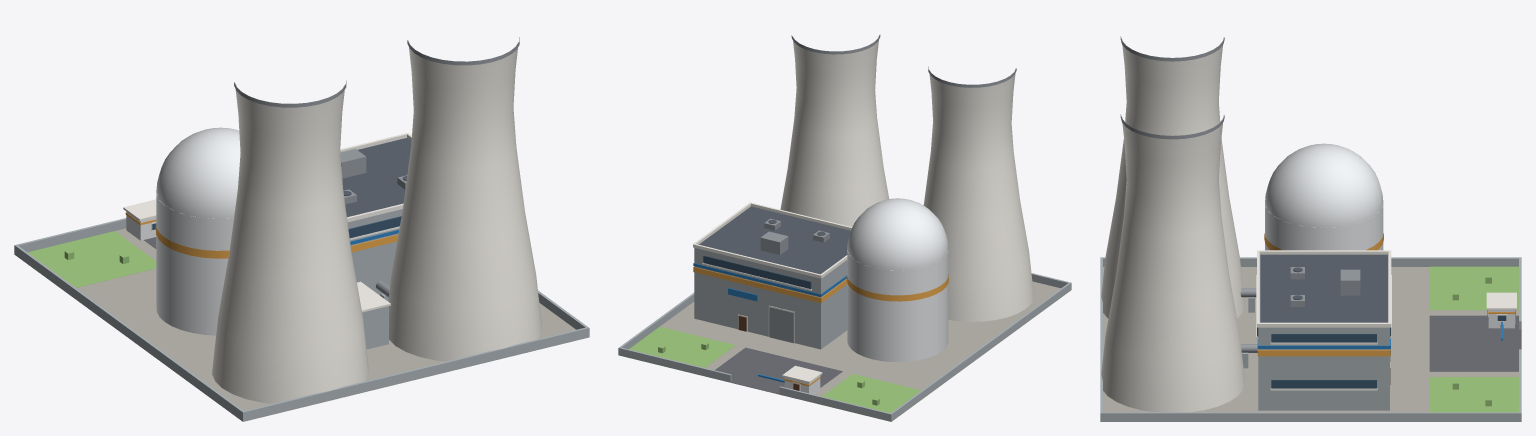
Rendered from nuclear.glb.
3 views of the same model, side by side, from view 1: azimuth 30°, elevation 25°; view 2: azimuth 150°, elevation 25°; view 3: azimuth 270°, elevation 25° (orthographic). The views are drawn at different scales.
Visible parts, largest first — view 1: cooling_tower (×2), yard, boundary_wall (×4), reactor, reactor_dome, lawn, roof, turbine_hall, pump_house, roof_vent, accent_stripe, pump_roof (+2 smaller); view 2: cooling_tower (×2), yard, reactor, turbine_hall, reactor_dome, roof, lawn (×2), boundary_wall (×4), entrance_road, accent_stripe (×3), parapet (×2), window_band (+3 smaller); view 3: cooling_tower (×2), yard, roof, turbine_hall, reactor_dome, lawn (×2), boundary_wall (×3), entrance_road, reactor, window_band (×2), accent_stripe (×2), parapet (×2) (+3 smaller).
Boxes of the visible parts, left/top/right/bottom form: cooling_tower (×2): left=212, top=40, right=541, bottom=403; yard: left=15, top=228, right=589, bottom=421; boundary_wall (×4): left=14, top=218, right=589, bottom=421; reactor: left=156, top=193, right=233, bottom=335; reactor_dome: left=156, top=127, right=240, bottom=218; lawn: left=14, top=231, right=156, bottom=290; roof: left=342, top=138, right=411, bottom=217; turbine_hall: left=347, top=209, right=402, bottom=295; pump_house: left=362, top=306, right=388, bottom=349; roof_vent: left=340, top=149, right=366, bottom=178; accent_stripe: left=155, top=223, right=229, bottom=258; pump_roof: left=357, top=281, right=390, bottom=312; cooling_tower (×2): left=780, top=35, right=1033, bottom=321; yard: left=638, top=281, right=1071, bottom=421; reactor: left=847, top=250, right=948, bottom=362; turbine_hall: left=694, top=248, right=847, bottom=349; reactor_dome: left=847, top=198, right=948, bottom=270; roof: left=699, top=206, right=850, bottom=274; lawn (×2): left=618, top=326, right=929, bottom=421; boundary_wall (×4): left=618, top=282, right=1071, bottom=421; entrance_road: left=715, top=347, right=842, bottom=399; accent_stripe (×3): left=693, top=263, right=948, bottom=302; parapet (×2): left=693, top=202, right=851, bottom=278; window_band: left=703, top=255, right=811, bottom=288; cooling_tower (×2): left=1101, top=37, right=1244, bottom=412; yard: left=1100, top=267, right=1520, bottom=421; roof: left=1260, top=254, right=1387, bottom=322; turbine_hall: left=1258, top=255, right=1389, bottom=410; reactor_dome: left=1265, top=143, right=1383, bottom=227; lawn (×2): left=1429, top=266, right=1518, bottom=421; boundary_wall (×3): left=1100, top=257, right=1521, bottom=421; entrance_road: left=1429, top=315, right=1521, bottom=371; reactor: left=1265, top=204, right=1383, bottom=250; window_band (×2): left=1271, top=334, right=1376, bottom=388; accent_stripe (×2): left=1257, top=338, right=1390, bottom=356; parapet (×2): left=1257, top=250, right=1390, bottom=327.
Size of the model in its own units: 56 by 45.1 by 64.
